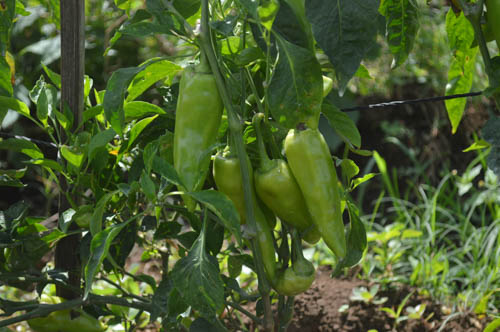ChiliPepper: (286, 131, 349, 260), (214, 151, 273, 274), (173, 69, 217, 211), (262, 161, 317, 242), (270, 265, 315, 300)
